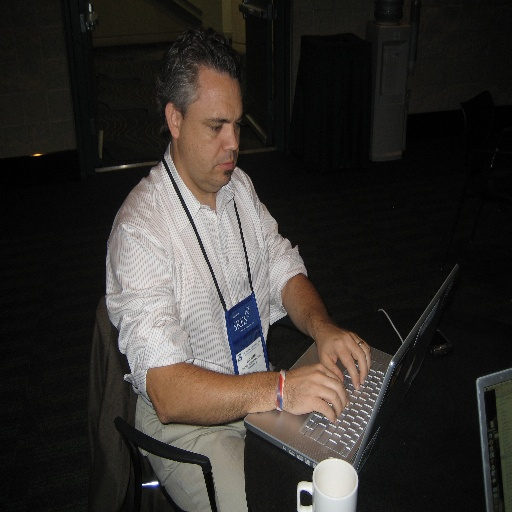hand: (316, 321, 372, 392), (286, 358, 339, 426)
